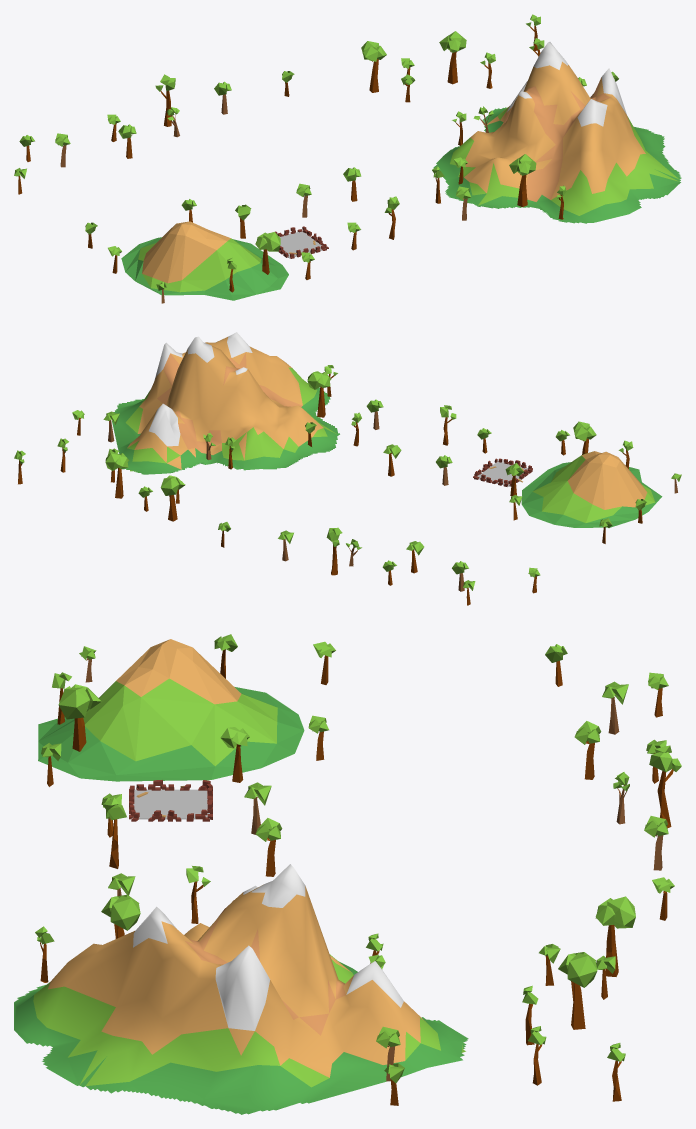
Rendered from scenery.glb.
The picture shows the model from 3 angles, top to bottom: view 1: azimuth 30°, elevation 25°; view 2: azimuth 150°, elevation 25°; view 3: azimuth 270°, elevation 25°; orthographic projection. The views are drawn at different scales.
Parts seen in each view (by area): view 1: Декорации; view 2: Декорации; view 3: Декорации.
Part boxes in pixels (left/top/right/bottom): Декорации: left=14, top=14, right=681, bottom=303; Декорации: left=14, top=332, right=681, bottom=605; Декорации: left=14, top=634, right=681, bottom=1114.
Size of the model in its own units: 269 by 50.36 by 174.
